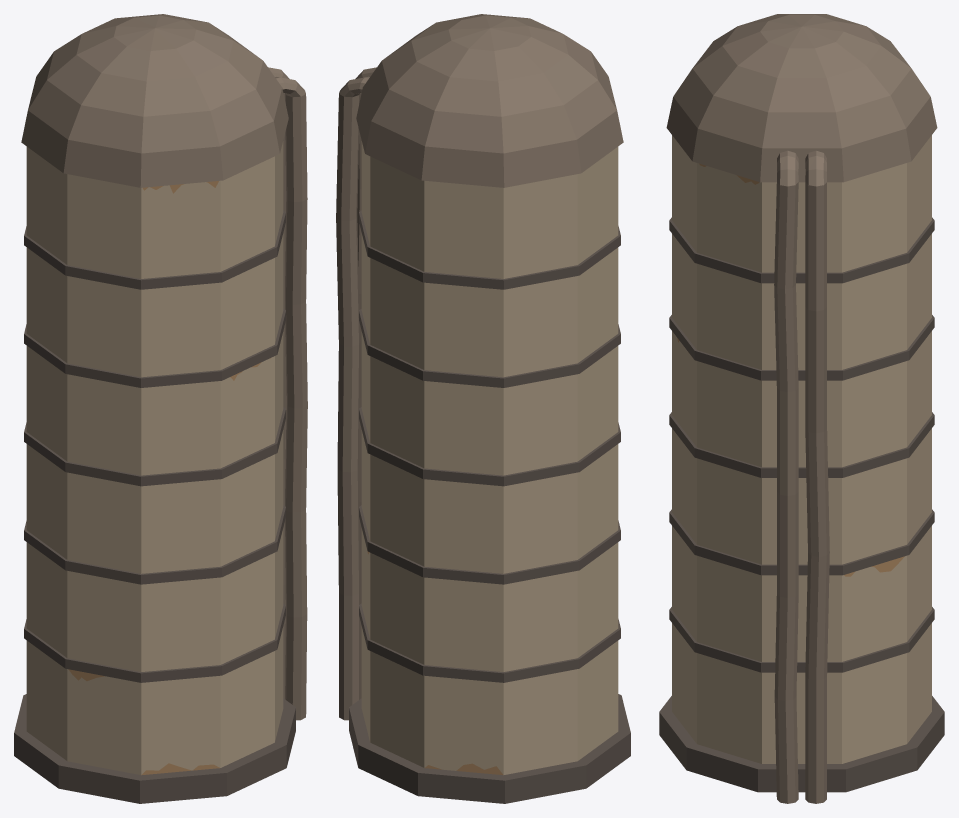
The model's file is Mesh_Buildings_Elevator_01.FBX.
3 views of the same model, side by side, from view 1: azimuth 30°, elevation 25°; view 2: azimuth 150°, elevation 25°; view 3: azimuth 270°, elevation 25° (orthographic).
Visible parts, largest first — view 1: Mesh_Buildings_Elevator_01; view 2: Mesh_Buildings_Elevator_01; view 3: Mesh_Buildings_Elevator_01.
Part boxes in pixels (x1=…): Mesh_Buildings_Elevator_01: x1=14, y1=14, x2=307, y2=803; Mesh_Buildings_Elevator_01: x1=336, y1=14, x2=630, y2=803; Mesh_Buildings_Elevator_01: x1=659, y1=14, x2=944, y2=803.
Size of what is drawn, in the model's own units: 271 by 256 by 700.
